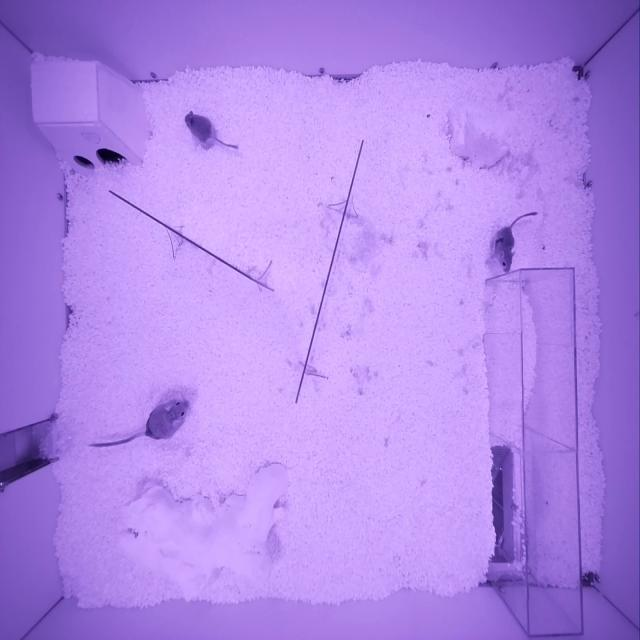adult_back: (145, 399, 189, 439)
pup_fluffy: (184, 111, 212, 142)
pup_spotted: (490, 226, 516, 273)
